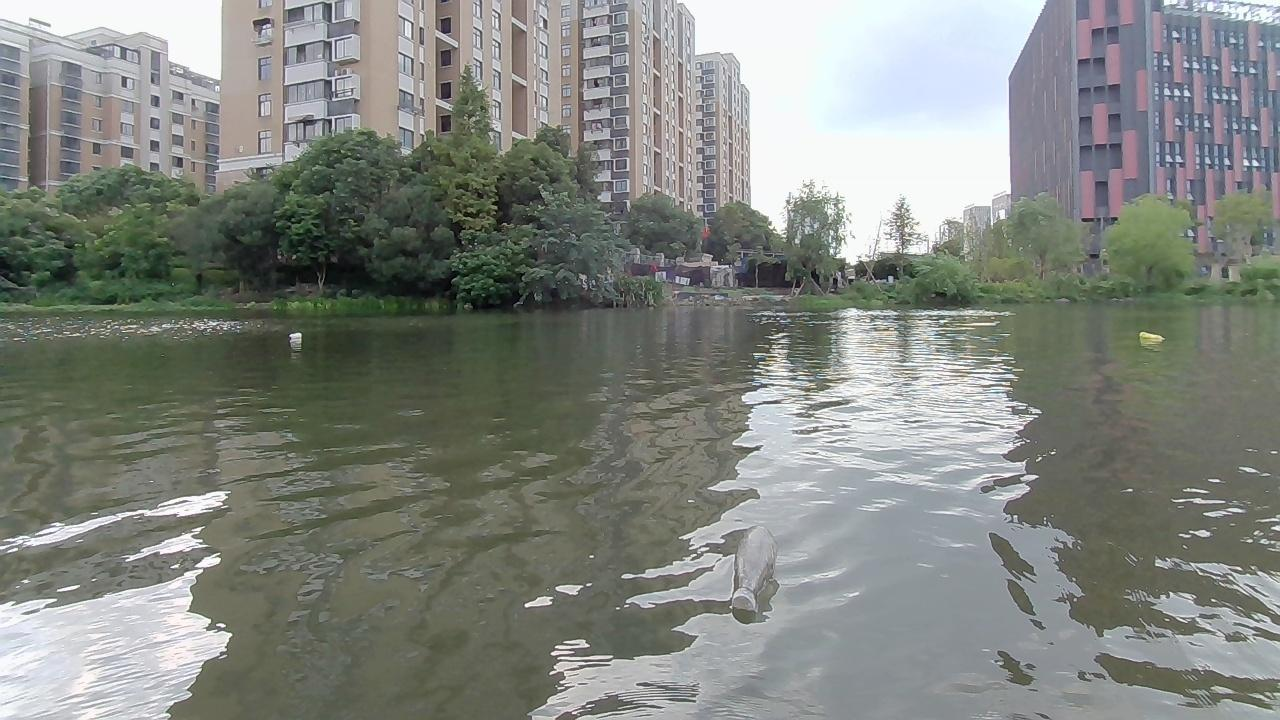bottle: (1135, 330, 1166, 346), (287, 328, 304, 342)
